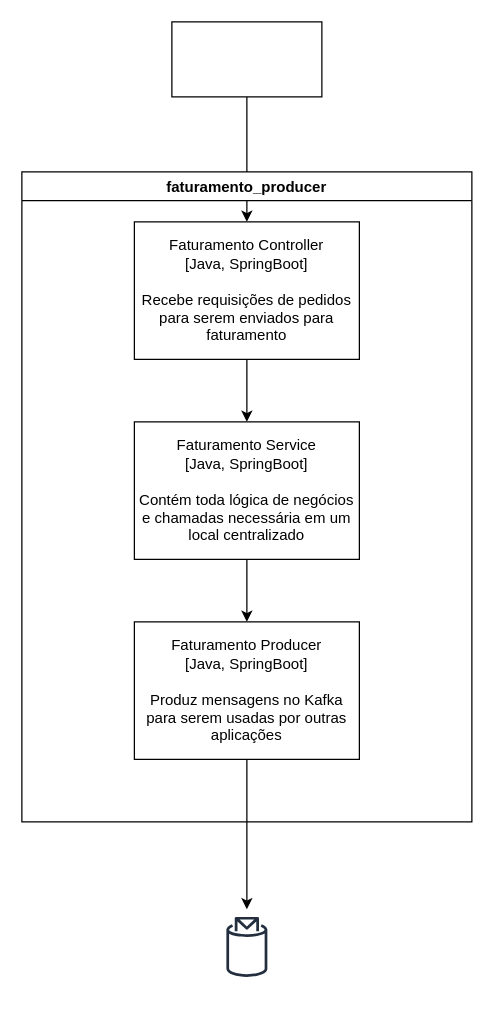
This 494x1033 diagram has some shape labels left out. The box of each missing label's shape, as (x1, y1, x2, y2) in pixels:
ERP Comercial [Windows Forms, C#]: (171, 21, 322, 97)
pedidos.faturar: (208, 908, 284, 984)
